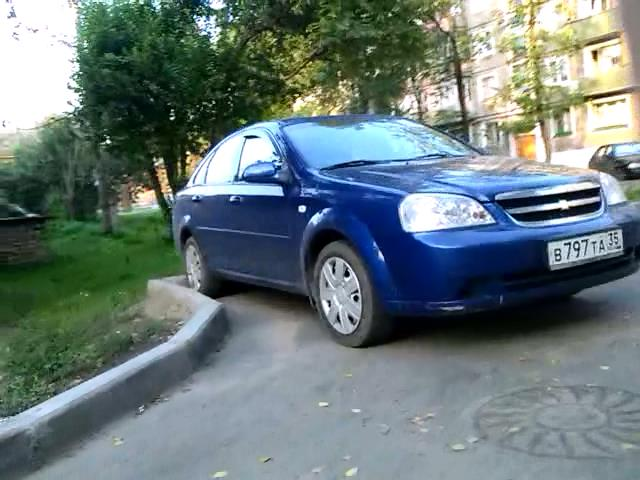car license plate: (543, 228, 626, 272)
